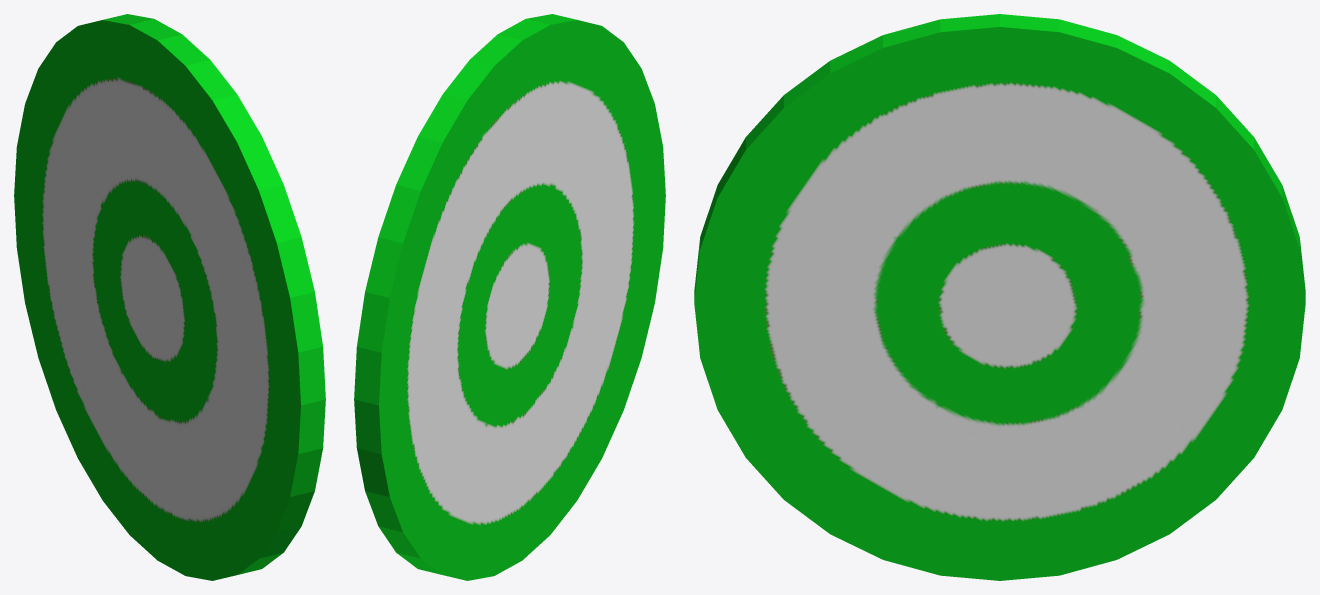
Rendered from target1.obj.
The picture shows the model from 3 angles, left to right: view 1: azimuth 30°, elevation 25°; view 2: azimuth 150°, elevation 25°; view 3: azimuth 270°, elevation 25°; orthographic projection. The views are drawn at different scales.
Visible parts, largest first — view 1: 円柱; view 2: 円柱; view 3: 円柱.
Boxes of the visible parts, x1=… form: 円柱: x1=14, y1=14, x2=325, y2=580; 円柱: x1=354, y1=14, x2=665, y2=580; 円柱: x1=694, y1=14, x2=1305, y2=580.
Size of the model in its own units: 0.05 by 1 by 1.
Materials: 1 (1 with a texture image).
